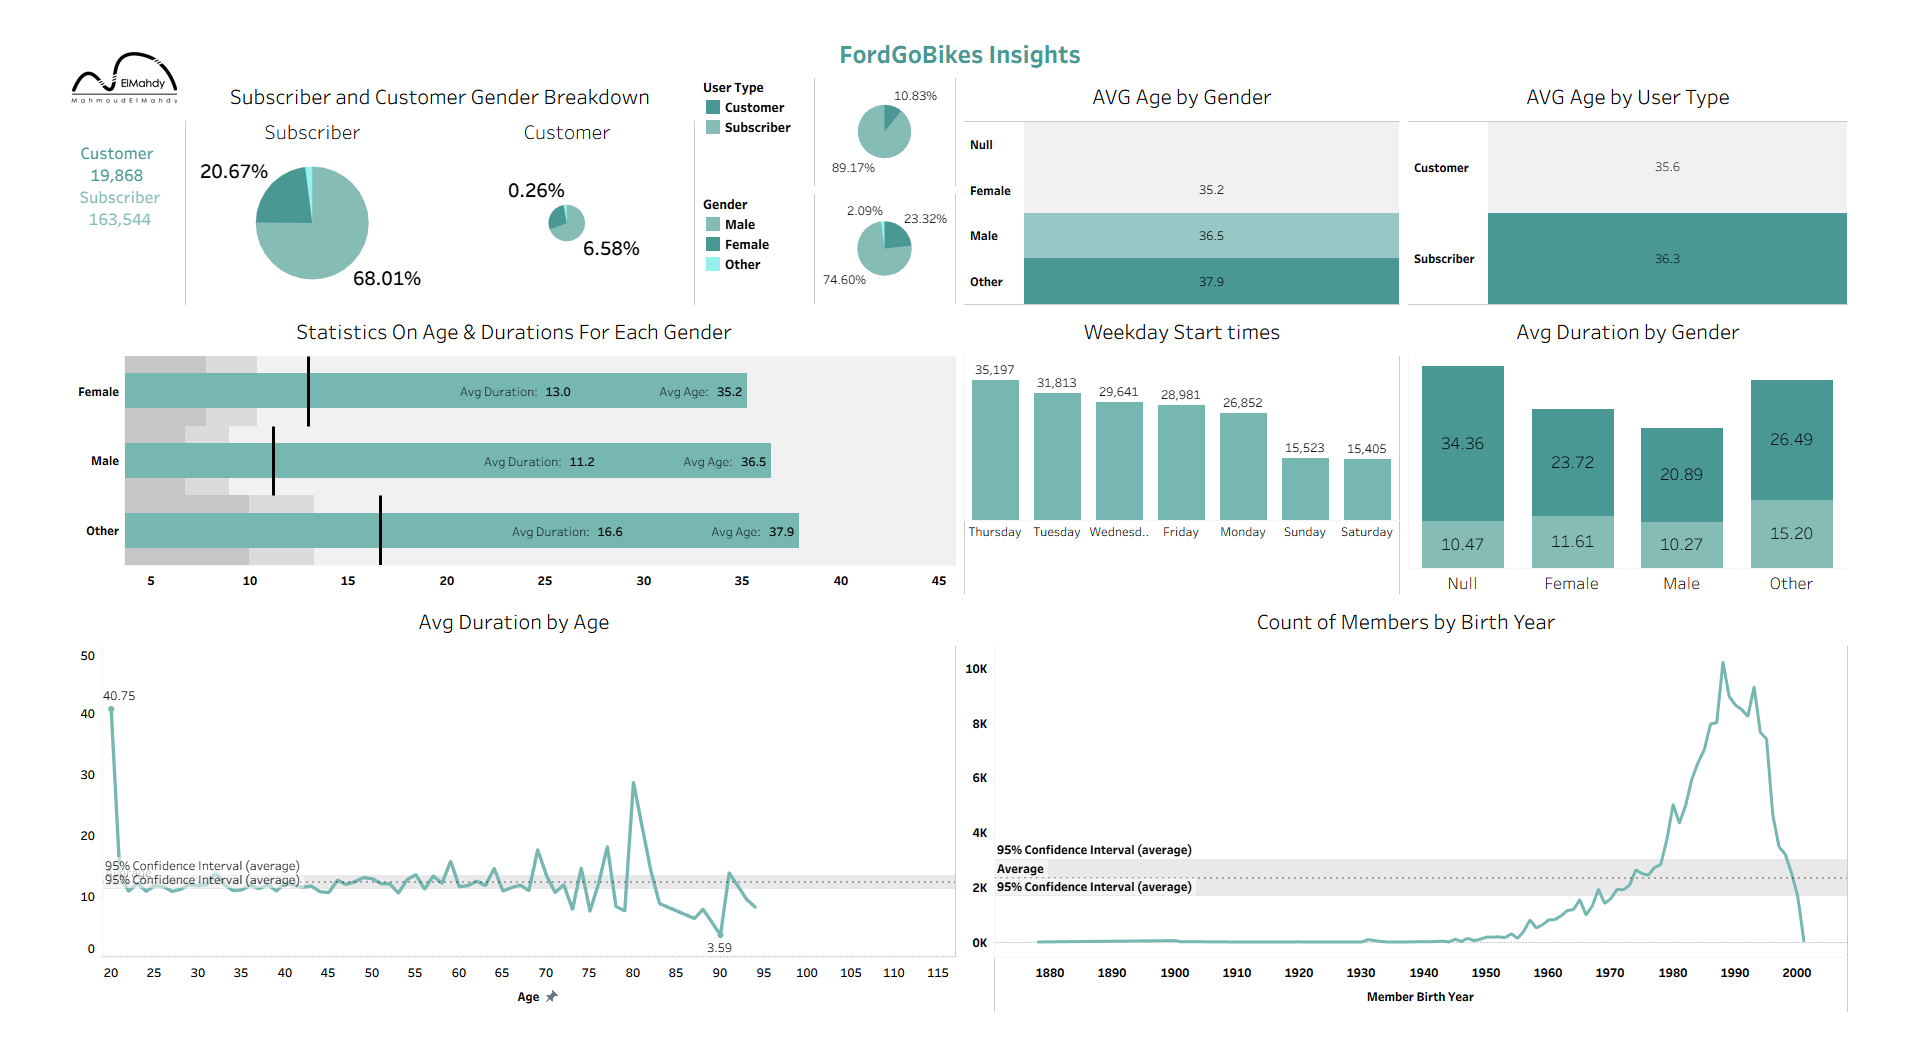

The dashboard page shown, as its layout file describes it:
{"tool":"tableau","page":{"name":"FordGoBikes Insights","canvas":[1000,1000],"units":"permille","ordinal":0},"visuals":[{"type":"image","param":"Image/1.png","box":[3.9,6.1,63.3,92.8]},{"type":"title","box":[4.4,9.9,991.1,50.8]},{"type":"blank","box":[4.4,60.7,63.1,59.1]},{"type":"worksheet","title":"Subscriber and Customer Gender Breakdown","mark":"Pie","cols":["user_type"],"box":[67.5,60.7,287.7,231.2]},{"type":"legend","title":"Avg Duration by Gender","param":"[federated.05q6k4s0pygpc514fcjlq1cgjpww].[none:user_type:nk]","box":[355.2,60.7,61.3,115.3]},{"type":"worksheet","title":"User Types","mark":"Pie","box":[416.5,60.7,83.4,114.7]},{"type":"worksheet","title":"AVG Age by Gender","mark":"Automatic","rows":["member_gender"],"box":[499.9,60.7,246.6,231.2]},{"type":"worksheet","title":"AVG Age by User Type","mark":"Square","rows":["user_type"],"box":[746.5,60.7,249.1,231.2]},{"type":"worksheet","title":"Sheet 4","mark":"Automatic","box":[4.4,119.8,63.1,172.2]},{"type":"worksheet","title":"Gender","mark":"Pie","box":[416.5,175.4,83.4,116.5]},{"type":"legend","title":"Subscriber and Customer Gender Breakdown","param":"[federated.05q6k4s0pygpc514fcjlq1cgjpww].[none:member_gender:nk]","box":[355.2,176,61.3,115.9]},{"type":"worksheet","title":"Statistics On Age & Durations For Each Gender","mark":"Automatic","rows":["member_gender"],"cols":["Calculation_651333105281527810"],"box":[4.4,291.9,495.5,285.9]},{"type":"worksheet","title":"Weekday Start times","mark":"Bar","rows":["start_time"],"cols":["start_time"],"box":[499.9,291.9,246.6,285.9]},{"type":"worksheet","title":"Avg Duration by Gender","mark":"Automatic","rows":["Calculation_651333105306841094"],"cols":["member_gender"],"box":[746.5,291.9,249.1,285.9]},{"type":"worksheet","title":"Avg Duration by Age","mark":"Line","rows":["Calculation_651333105306841094"],"cols":["Calculation_651333105281527810"],"box":[4.4,577.9,495.7,412.2]},{"type":"worksheet","title":"Count of Members by Birth Year","mark":"Automatic","rows":["member_birth_year"],"cols":["member_birth_year"],"box":[500.1,577.9,495.4,412.2]}]}

Visuals, with their boxes on the dashboard's canvas, which has no fixed pixel size, in thousandths of its width and height (x1, y1, x2, y2). These are canvas units, not pixel positions in the 1920x1050 screenshot, which may show the page scaled, cropped or inside an application window:
image: box(4, 6, 67, 99)
title: box(4, 10, 996, 61)
blank: box(4, 61, 68, 120)
"Subscriber and Customer Gender Breakdown" worksheet (Pie marks): box(68, 61, 355, 292)
"Avg Duration by Gender" legend: box(355, 61, 416, 176)
"User Types" worksheet (Pie marks): box(416, 61, 500, 175)
"AVG Age by Gender" worksheet: box(500, 61, 746, 292)
"AVG Age by User Type" worksheet (Square marks): box(746, 61, 996, 292)
"Sheet 4" worksheet: box(4, 120, 68, 292)
"Gender" worksheet (Pie marks): box(416, 175, 500, 292)
"Subscriber and Customer Gender Breakdown" legend: box(355, 176, 416, 292)
"Statistics On Age & Durations For Each Gender" worksheet: box(4, 292, 500, 578)
"Weekday Start times" worksheet (Bar marks): box(500, 292, 746, 578)
"Avg Duration by Gender" worksheet: box(746, 292, 996, 578)
"Avg Duration by Age" worksheet (Line marks): box(4, 578, 500, 990)
"Count of Members by Birth Year" worksheet: box(500, 578, 996, 990)
